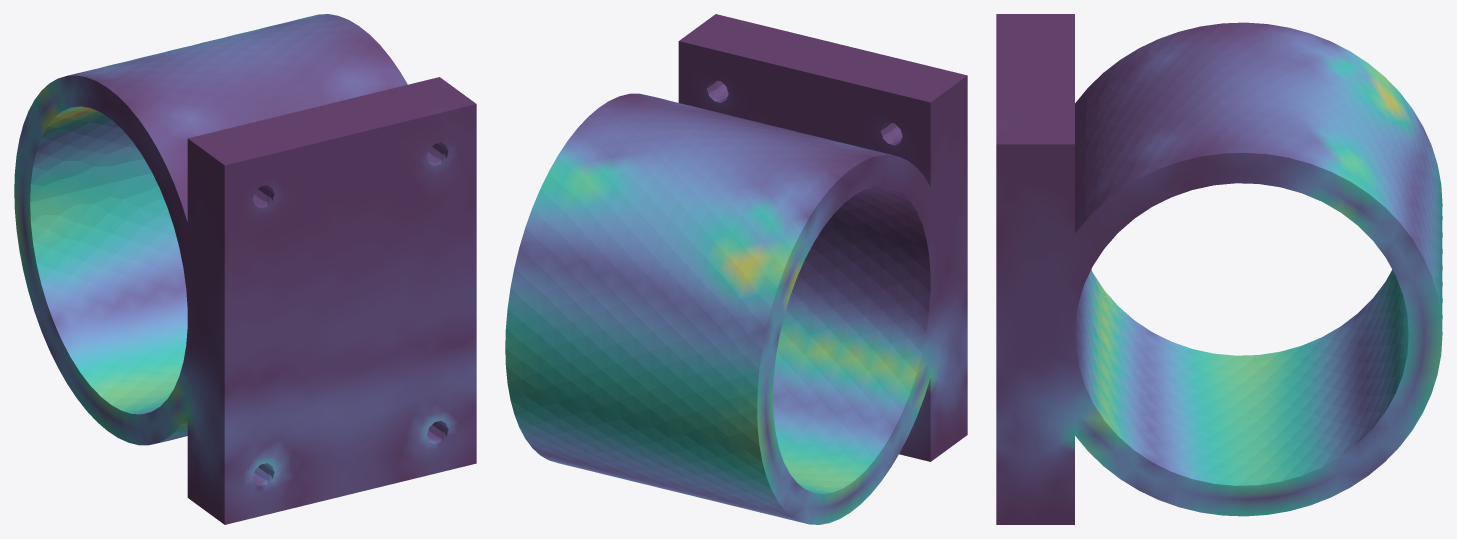
Rendered from P2_boom_wing_clamp.glb.
The picture shows the model from 3 angles, left to right: view 1: azimuth 30°, elevation 25°; view 2: azimuth 150°, elevation 25°; view 3: azimuth 270°, elevation 25°; orthographic projection. The views are drawn at different scales.
Parts seen in each view (by area): view 1: geometry_0; view 2: geometry_0; view 3: geometry_0.
Part boxes in pixels (x1=…): geometry_0: x1=14, y1=14, x2=476, y2=524; geometry_0: x1=505, y1=14, x2=967, y2=524; geometry_0: x1=996, y1=14, x2=1442, y2=524.
Bounding box in the file's own units: 0.11 × 0.15 × 0.1593.
